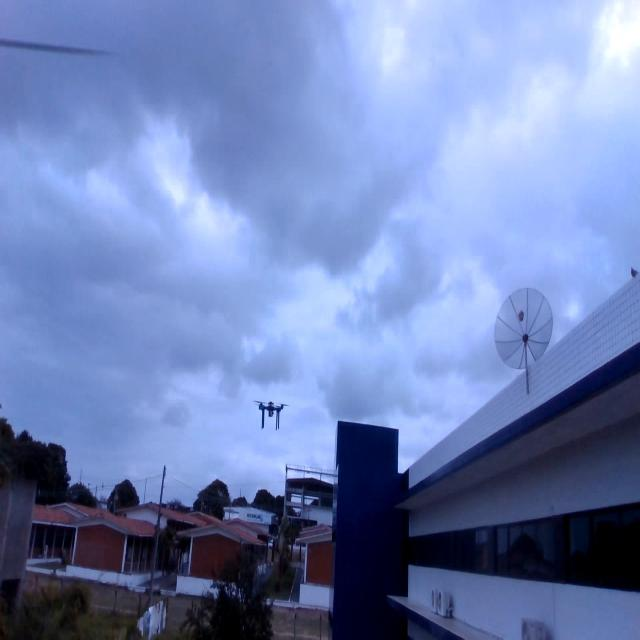-uav-: (250, 388, 293, 436)
